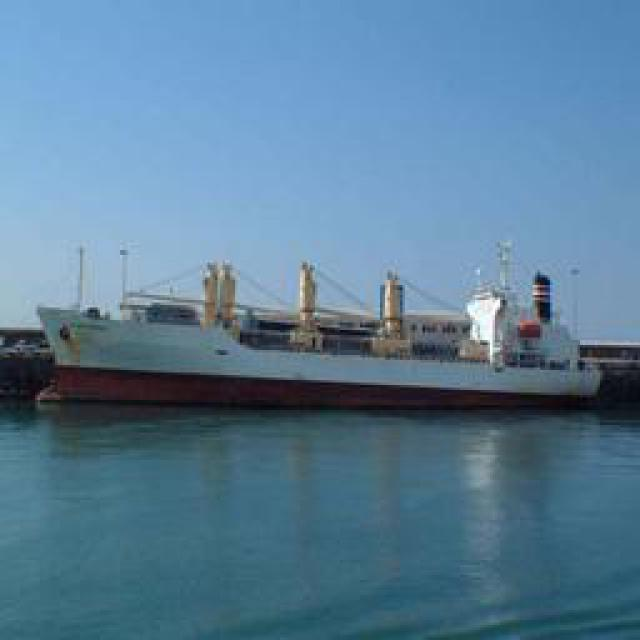Ship: (28, 267, 623, 417)
